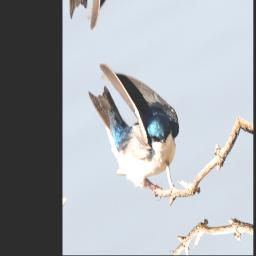Swallow: (82, 32, 194, 222)
